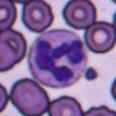N: (28, 28, 87, 89)
